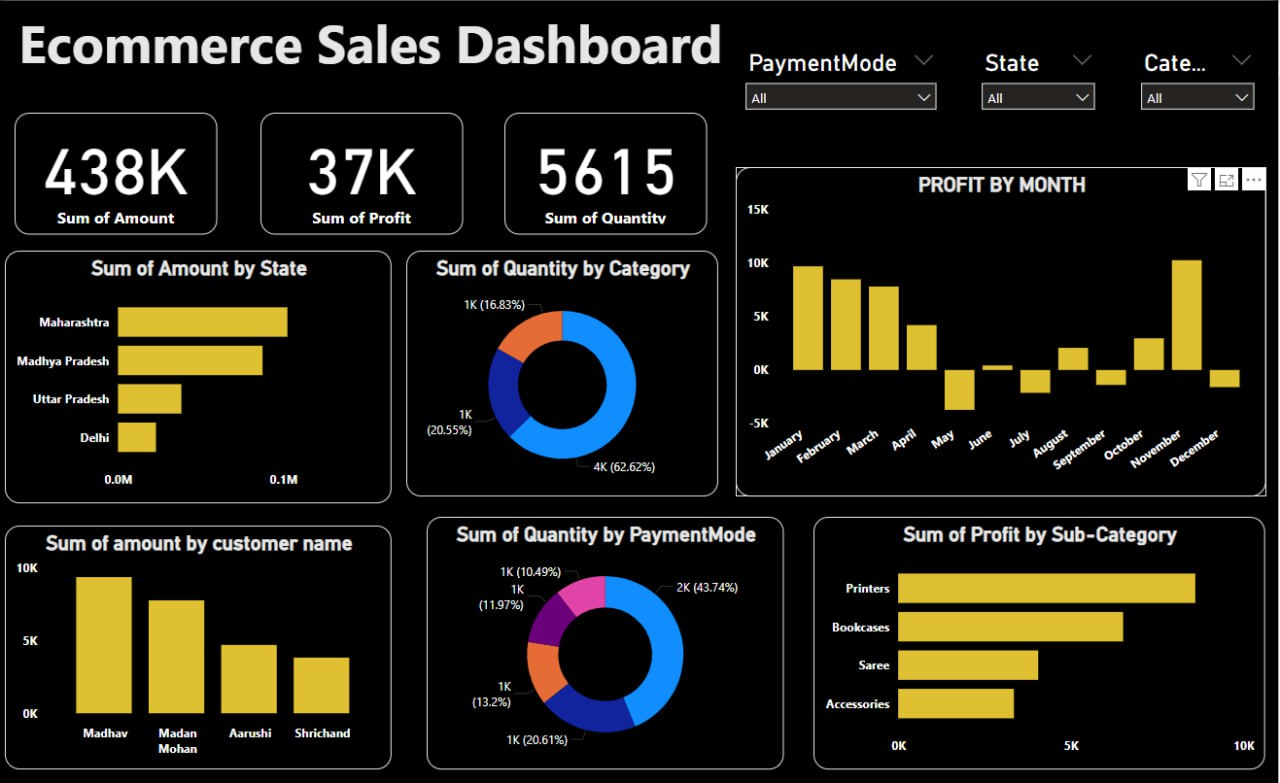

What the dashboard file says about the page in this screenshot:
{"tool":"powerbi","page":{"name":"Page 1","canvas":[1300,800],"ordinal":0},"visuals":[{"type":"clusteredColumnChart","title":"PROFIT BY MONTH","fields":{"Y":["Details.Profit"],"Category":["Orders.Order Date.Variation.Date Hierarchy.Month"]},"box":[748.8,168.9,539.4,334.9],"z":0},{"type":"clusteredColumnChart","title":"Sum of amount by customer name ","fields":{"Y":["Details.Amount"],"Category":["Orders.CustomerName"]},"box":[5.9,533.4,393.2,247.9],"z":1000},{"type":"donutChart","fields":{"Y":["Details.Quantity"],"Category":["Details.PaymentMode"]},"box":[434.8,524.4,363.2,256.7],"z":2000},{"type":"barChart","fields":{"Category":["Details.Sub-Category"],"Y":["Details.Profit"]},"box":[827.9,524.4,458.7,256.7],"z":3000},{"type":"barChart","fields":{"Y":["Details.Amount"],"Category":["Orders.State"]},"box":[6,253.7,393,256.7],"z":4000},{"type":"donutChart","fields":{"Y":["Details.Quantity"],"Category":["Details.Category"]},"box":[413.9,253.9,317.1,249.9],"z":4001},{"type":"card","fields":{"Values":["Details.Amount"]},"box":[15.9,113.4,206,124.4],"z":4002},{"type":"card","fields":{"Values":["Details.Quantity"]},"box":[513.4,113.4,206,124.4],"z":4004},{"type":"card","fields":{"Values":["Details.Profit"]},"box":[265.7,113.4,206,124.4],"z":4005},{"type":"textbox","box":[6,0,743.3,88.6],"z":4006},{"type":"slicer","fields":{"Values":["Details.Category"]},"box":[1150.8,44.5,135.3,95.8],"z":4007},{"type":"slicer","fields":{"Values":["Orders.State"]},"box":[988.8,44.5,135.3,95.8],"z":4008},{"type":"slicer","fields":{"Values":["Details.PaymentMode"]},"box":[748.8,44.5,214.4,95.8],"z":4009}]}

Visuals, with their boxes in screenshot pixels (x1, y1, x2, y2), scaled from the page's 1300x800 canvas onto the 1280x783 screenshot:
"PROFIT BY MONTH" clusteredColumnChart: left=737, top=165, right=1268, bottom=493
"Sum of amount by customer name " clusteredColumnChart: left=6, top=522, right=393, bottom=765
donutChart - Details.Quantity x Details.PaymentMode: left=428, top=513, right=786, bottom=765
barChart - Details.Sub-Category x Details.Profit: left=815, top=513, right=1267, bottom=765
barChart - Details.Amount x Orders.State: left=6, top=248, right=393, bottom=500
donutChart - Details.Quantity x Details.Category: left=408, top=249, right=720, bottom=493
card - Details.Amount: left=16, top=111, right=218, bottom=233
card - Details.Quantity: left=506, top=111, right=708, bottom=233
card - Details.Profit: left=262, top=111, right=464, bottom=233
textbox: left=6, top=0, right=738, bottom=87
slicer - Details.Category: left=1133, top=44, right=1266, bottom=137
slicer - Orders.State: left=974, top=44, right=1107, bottom=137
slicer - Details.PaymentMode: left=737, top=44, right=948, bottom=137
